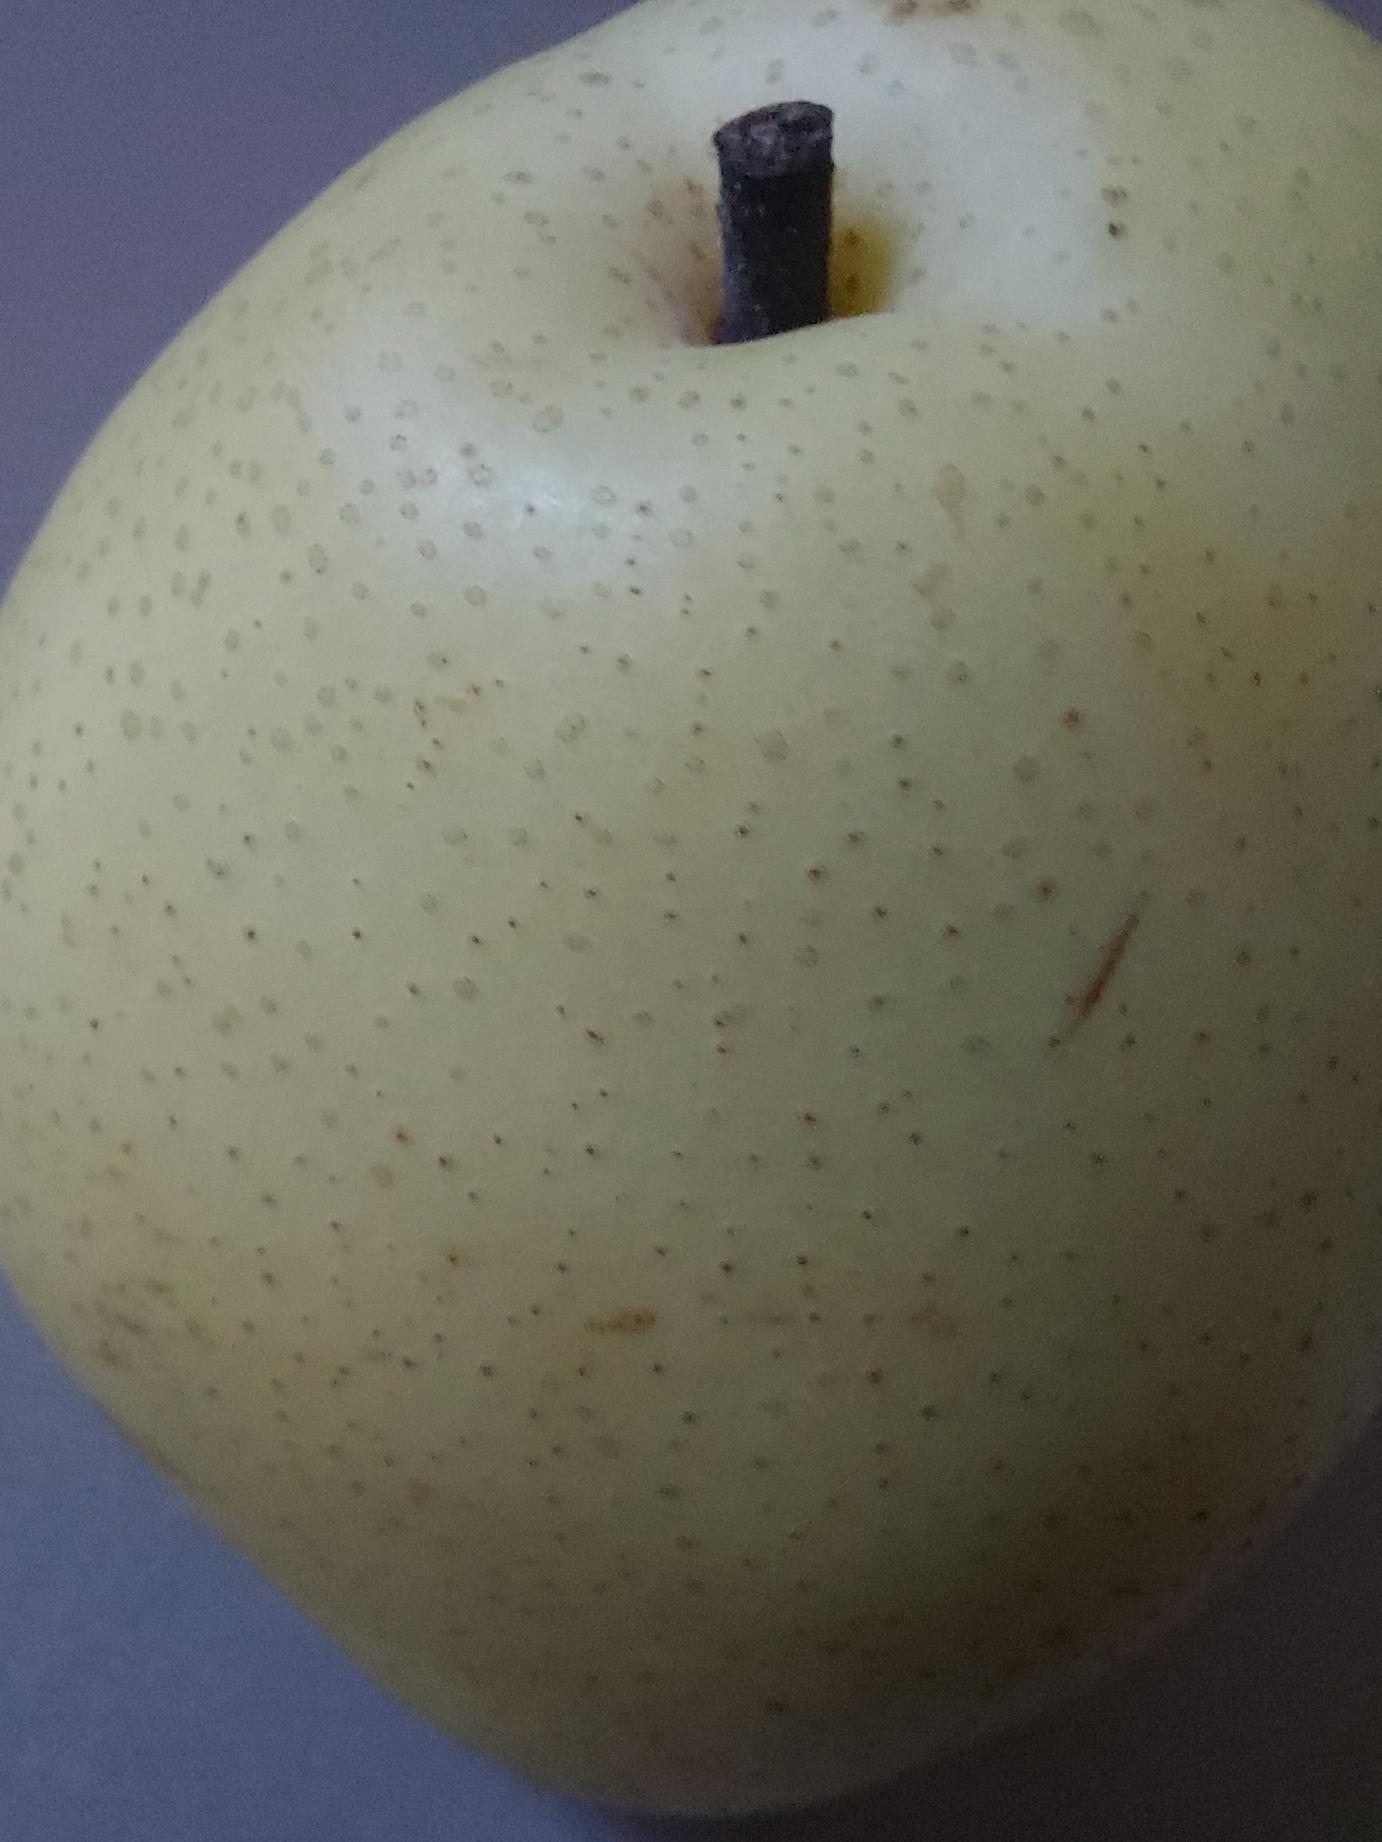Good Pear: (0, 0, 1382, 1827)
